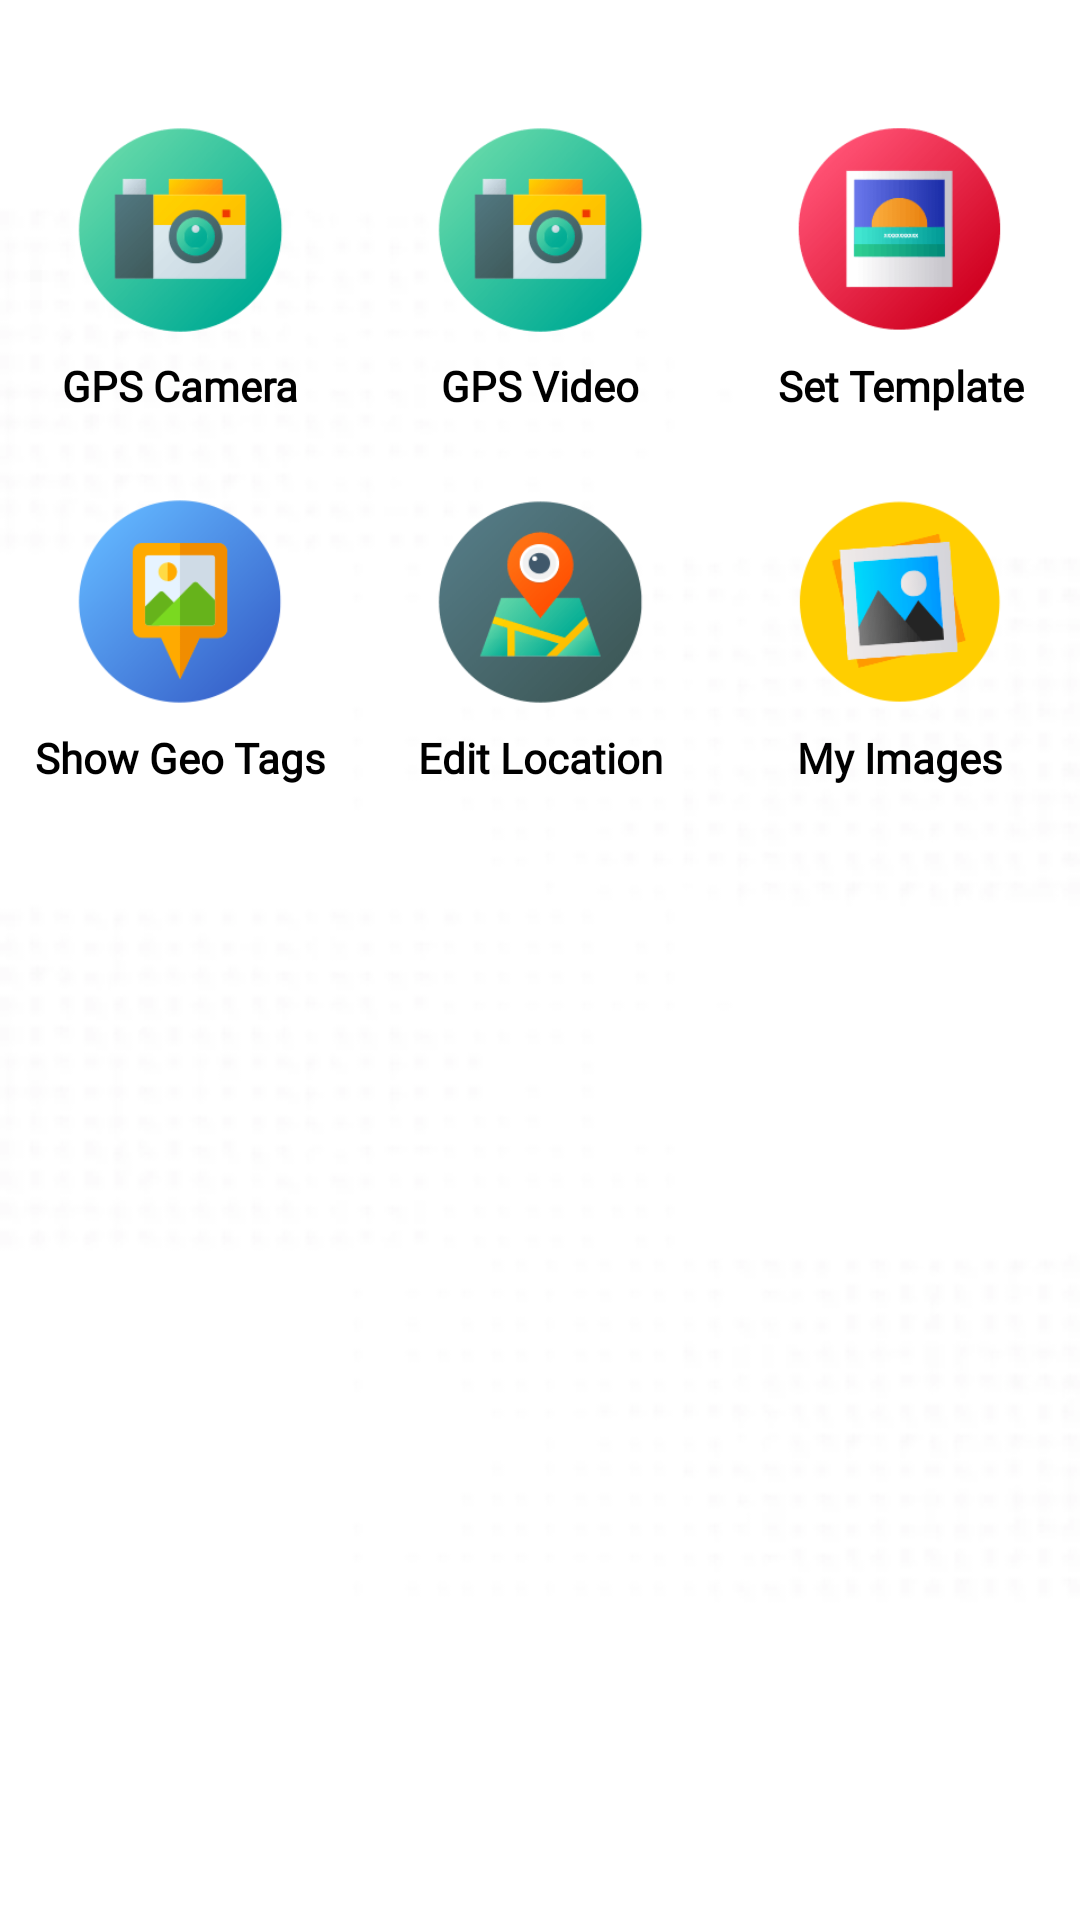

Named icons in this screenshot (1080×1920) and their bounding boxes, (x1, y1, x2, y2):
add loc: (438, 501, 642, 703)
captures: (799, 501, 1000, 702)
